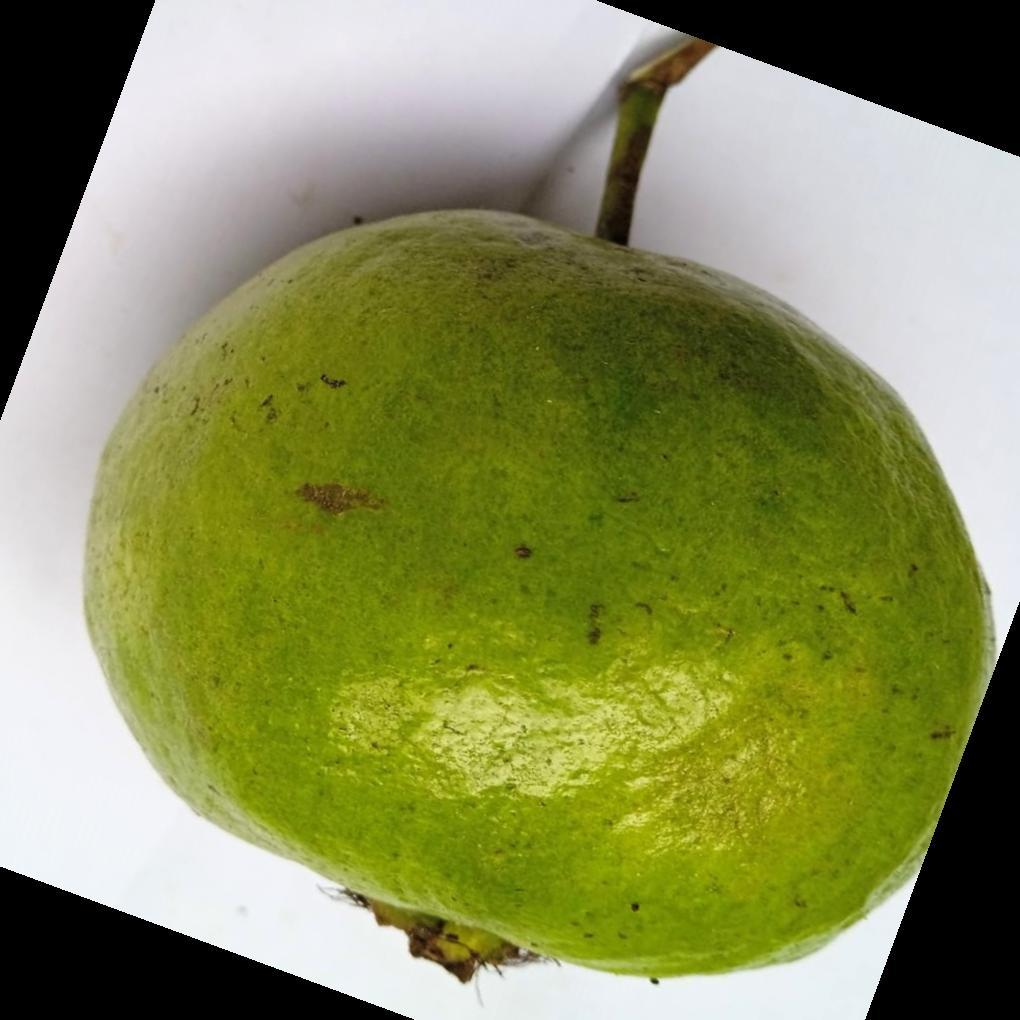FreshGuava: (79, 209, 997, 990)
